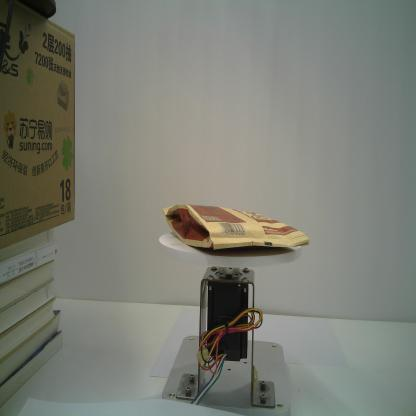Dried Food: (162, 202, 310, 252)
